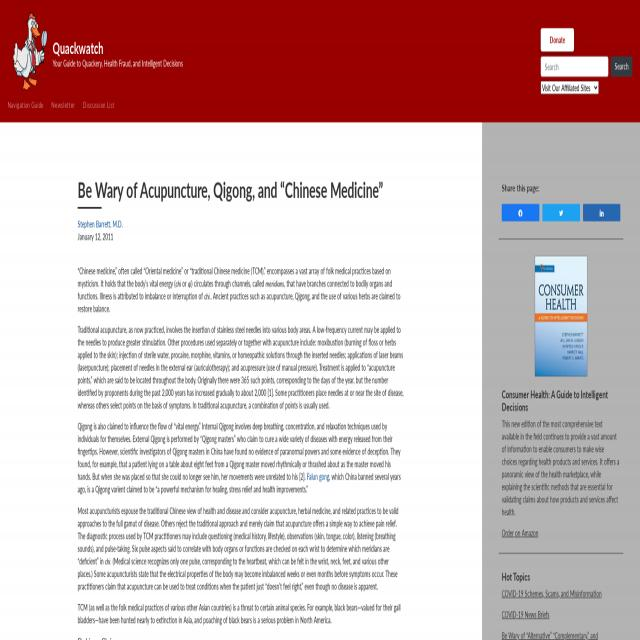button: (534, 255, 588, 378), (8, 11, 52, 92), (541, 28, 574, 51), (584, 204, 622, 221), (542, 205, 580, 221), (502, 205, 539, 221), (611, 57, 632, 76)
field: (540, 56, 609, 77), (541, 81, 599, 94)
